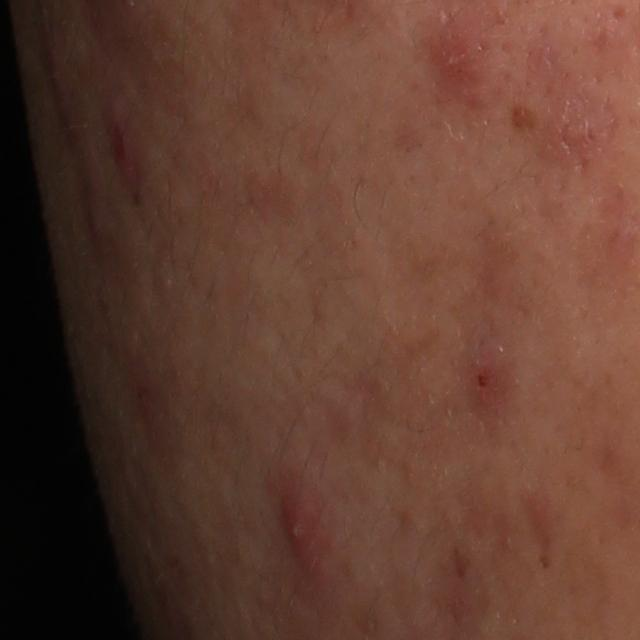papule: (267, 477, 341, 569), (105, 99, 141, 189), (421, 34, 480, 86), (462, 348, 504, 401)
